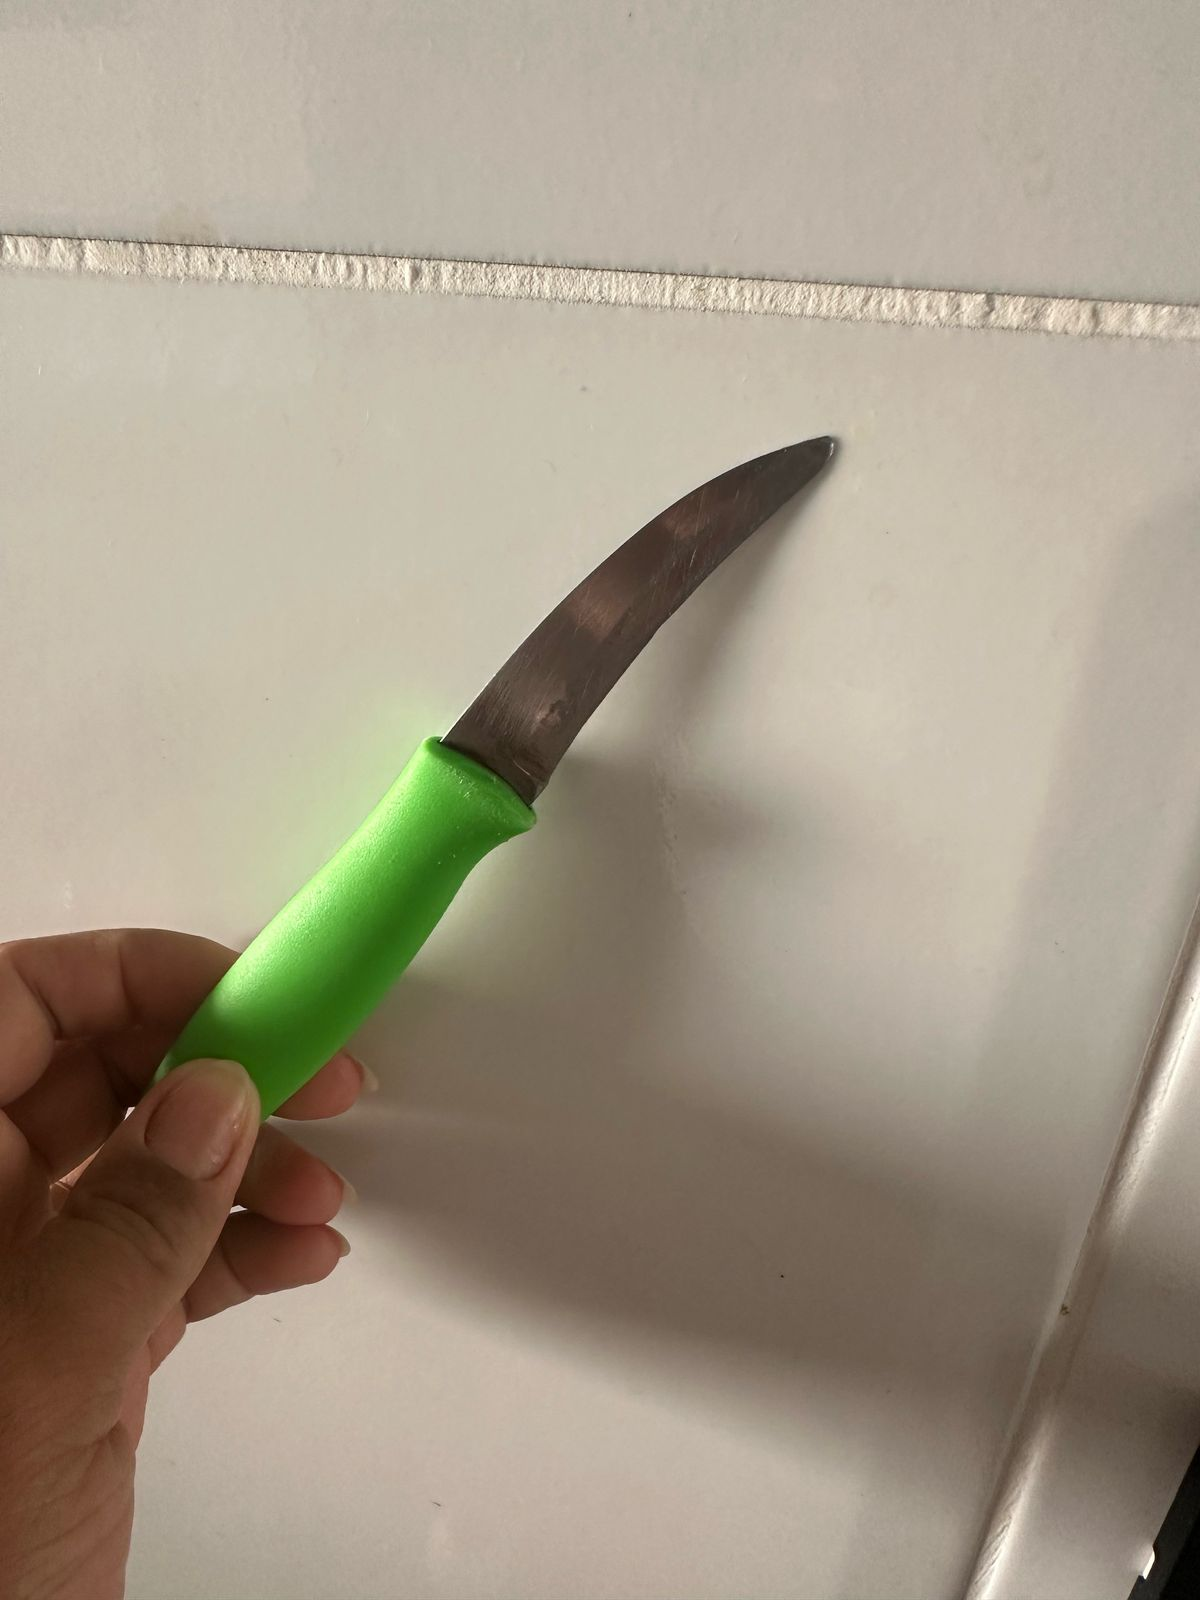faca: (242, 423, 847, 1058)
